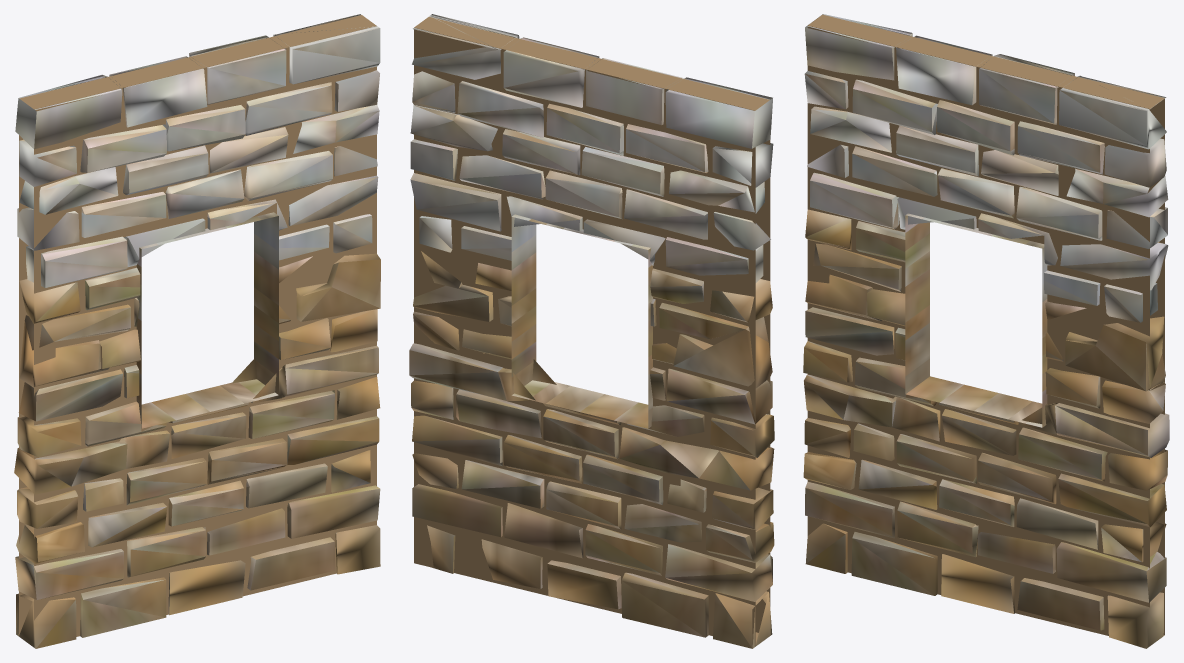
The model's file is wall-plaster-window.lod2.glb.
The picture shows the model from 3 angles, left to right: view 1: azimuth 30°, elevation 25°; view 2: azimuth 150°, elevation 25°; view 3: azimuth 330°, elevation 25°; orthographic projection.
Size of the model in its own units: 2 by 3 by 0.25.
1 material, 1 textured.
